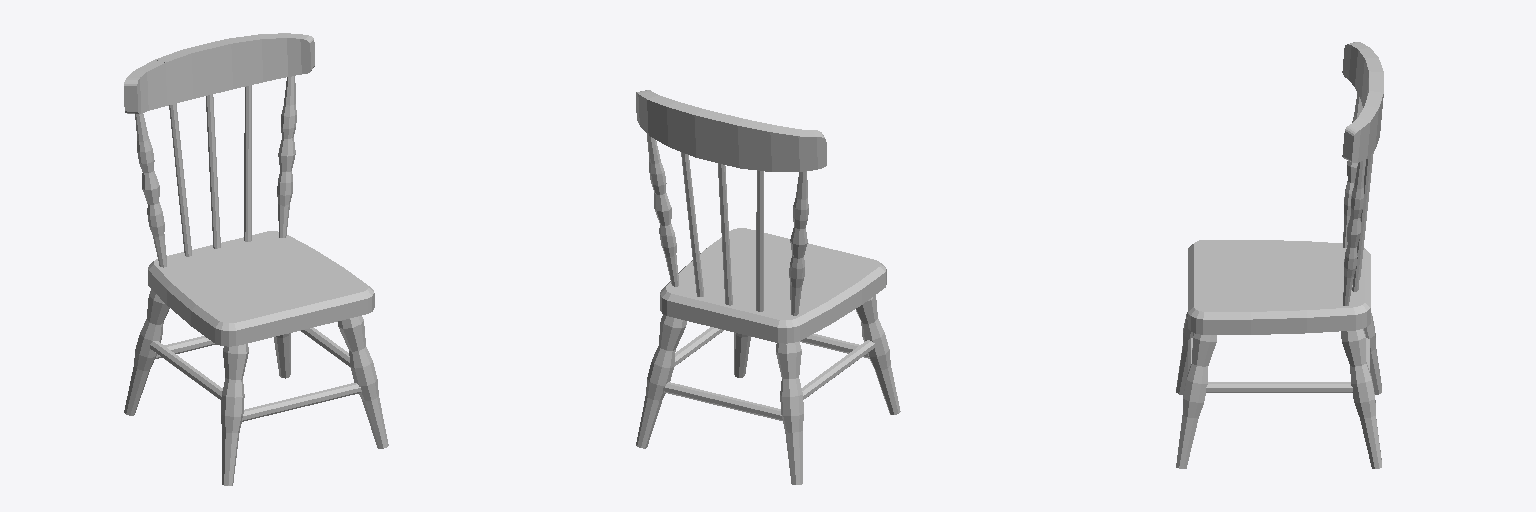
The model's file is Prop_Dining_Room_Chair.obj.
3 views of the same model, side by side, from view 1: azimuth 30°, elevation 25°; view 2: azimuth 150°, elevation 25°; view 3: azimuth 270°, elevation 25° (orthographic).
Parts seen in each view (by area): view 1: object1; view 2: object1; view 3: object1.
Part boxes in pixels (bbox=[...]): object1: bbox=[124, 33, 388, 485]; object1: bbox=[636, 90, 900, 484]; object1: bbox=[1176, 42, 1383, 468].
Size of the model in its own units: 0.6745 by 1.18 by 0.6365.